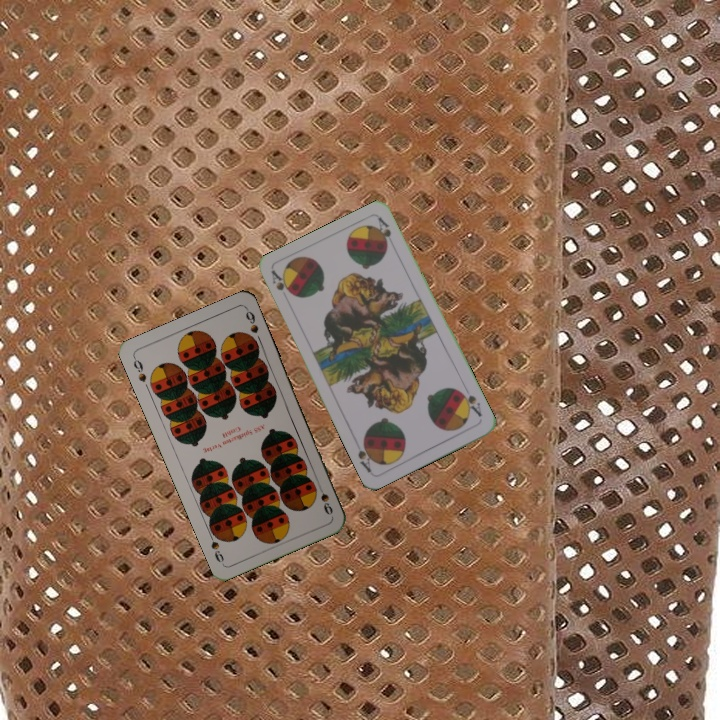S9: (313, 479, 335, 517), (129, 353, 149, 385)
SA: (455, 386, 485, 420), (267, 267, 295, 298)
